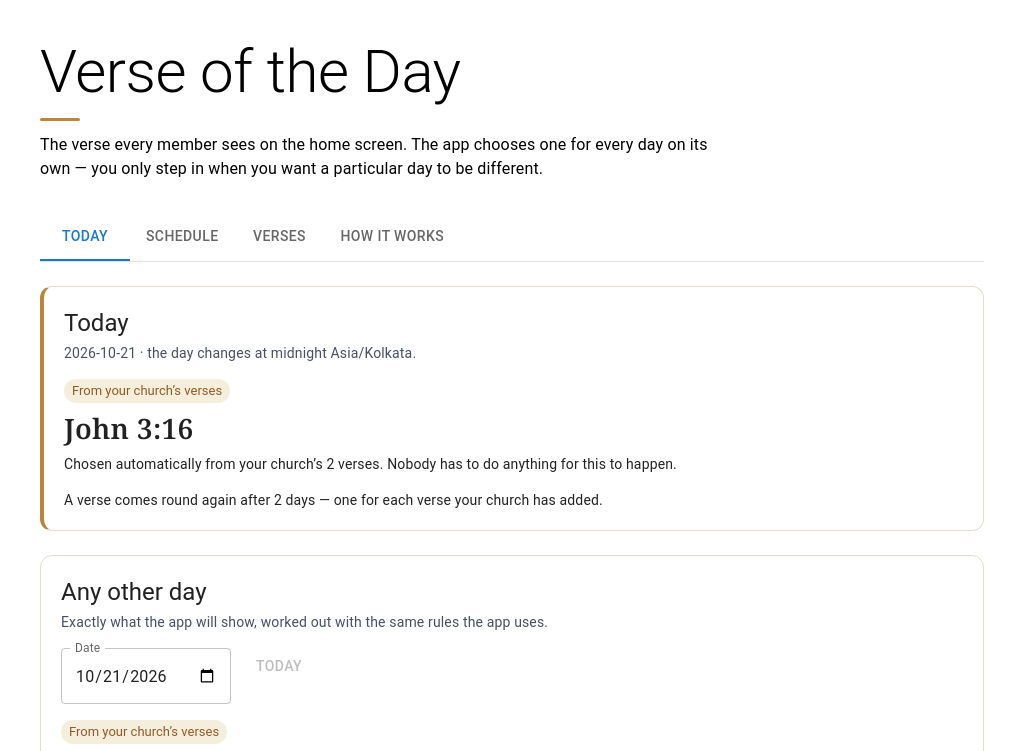
Test case: one page, not two › keeps the days set by hand and the church’s verses on ONE tab
What coordinates should you click on to do the following:
click the tab with test id "votd-tab-verses"
I would click on:
 (280, 237)
Its box is [234,213,324,261].
(page scrolled)
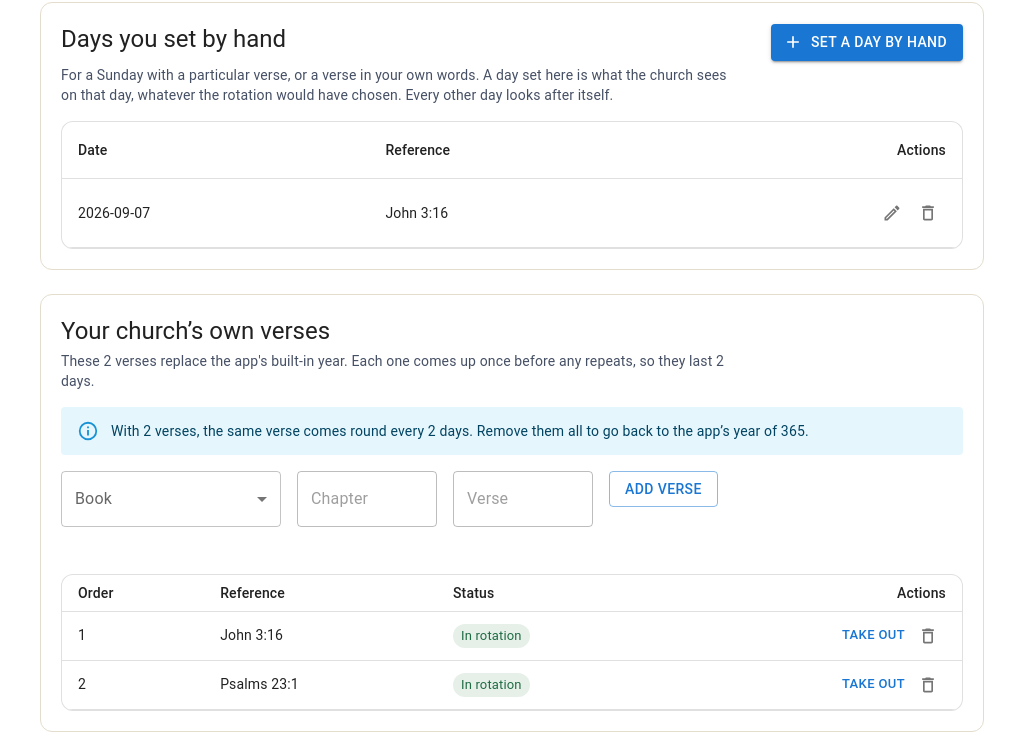
Expected: the element with test id "daily-verses-list-page" is shown, [40,2,984,270]
Expected: the element with test id "votd-pool-panel" is shown, [40,294,984,732]
